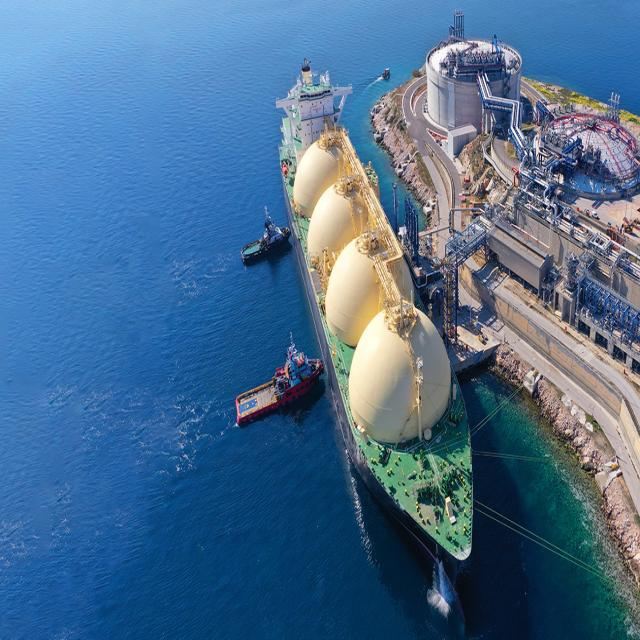boat: (269, 51, 486, 594)
